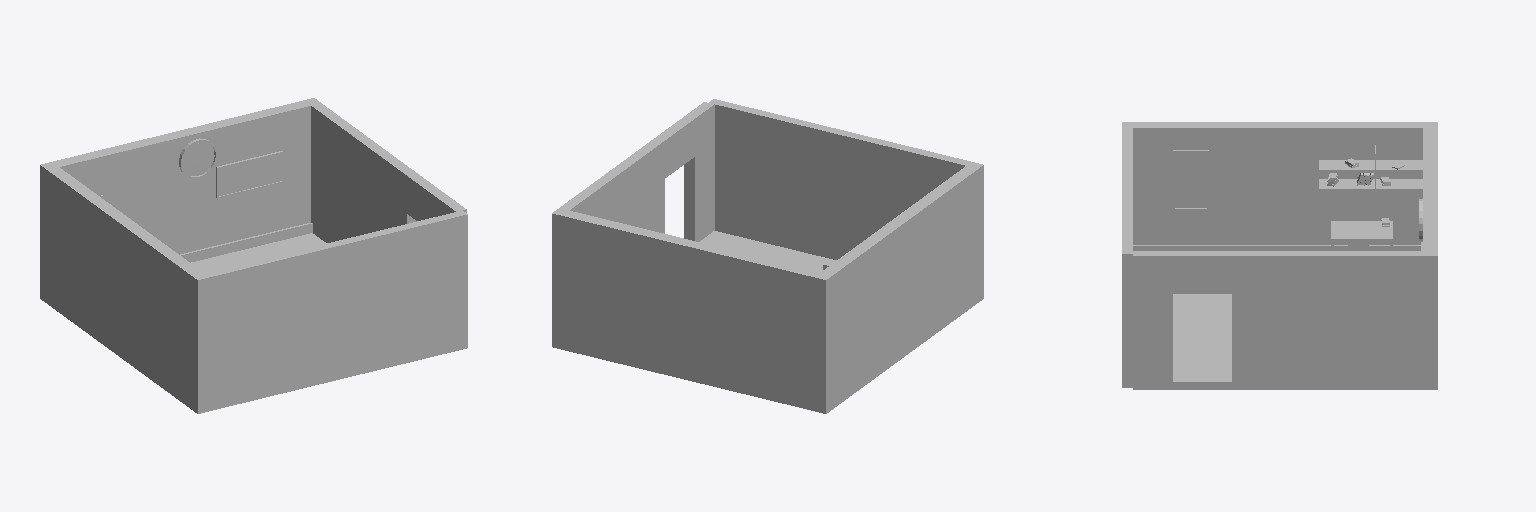
Rendered from low poly room 3.obj.
3 views of the same model, side by side, from view 1: azimuth 30°, elevation 25°; view 2: azimuth 150°, elevation 25°; view 3: azimuth 270°, elevation 25° (orthographic).
Parts seen in each view (by area): view 1: room, Circle.016; view 2: room; view 3: room.
Boxes of the visible parts, x1=… form: room: x1=40, y1=98, x2=467, y2=413; Circle.016: x1=179, y1=138, x2=216, y2=178; room: x1=552, y1=99, x2=983, y2=413; room: x1=1122, y1=122, x2=1437, y2=389.
Size of the model in its own units: 16.62 by 7.75 by 16.57.